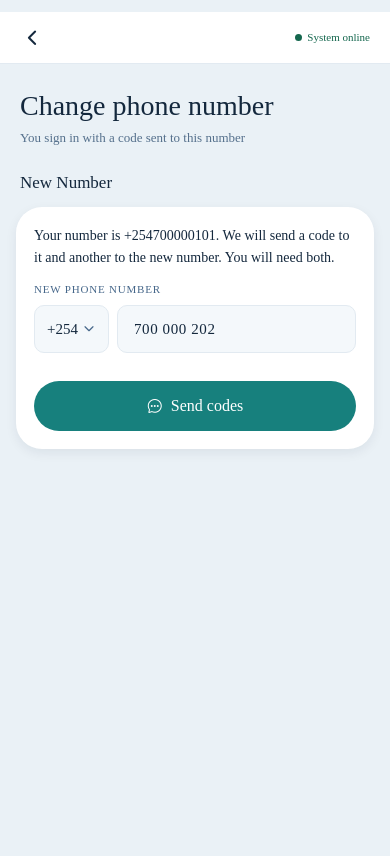
Test case: changing the phone number › asks for two codes, each labelled with the phone it went to
Earlier steps of the test are not shown.
Click the button labelled "Send codes": {"x": 195, "y": 406} [34,381,356,431]
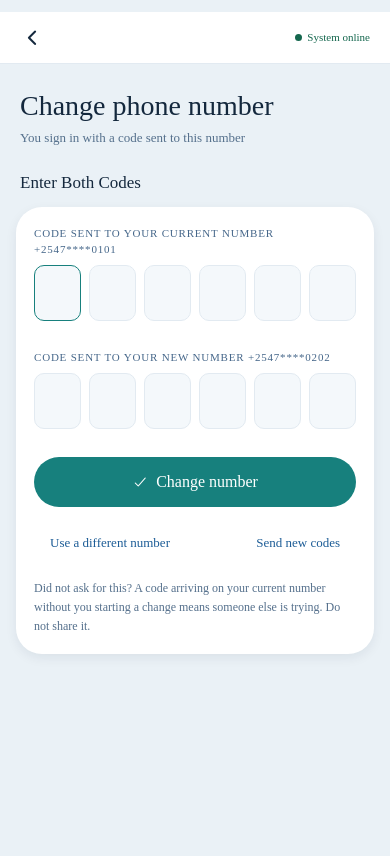
Result: the heading "Enter Both Codes" is shown at [20,171,141,195]
Result: the element labelled "Code sent to your current number +2547****0101" is shown at [34,225,356,321]
Result: the element labelled "Code sent to your new number +2547****0202" is shown at [34,349,356,429]
